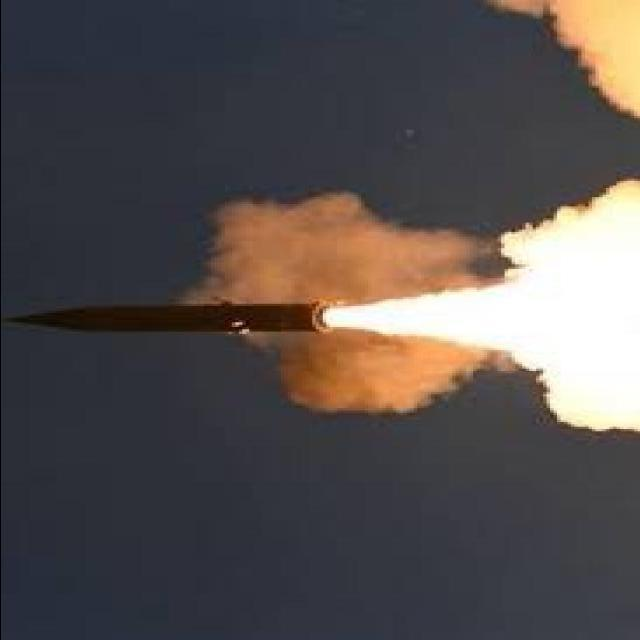missile: (2, 296, 332, 334)
